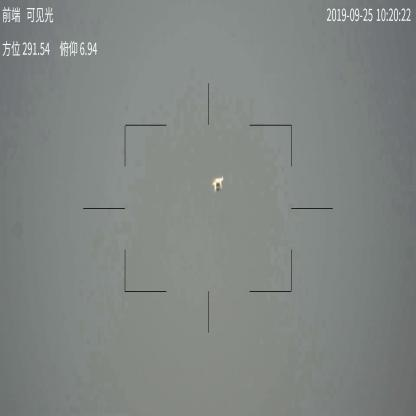uav: (208, 173, 224, 193)
